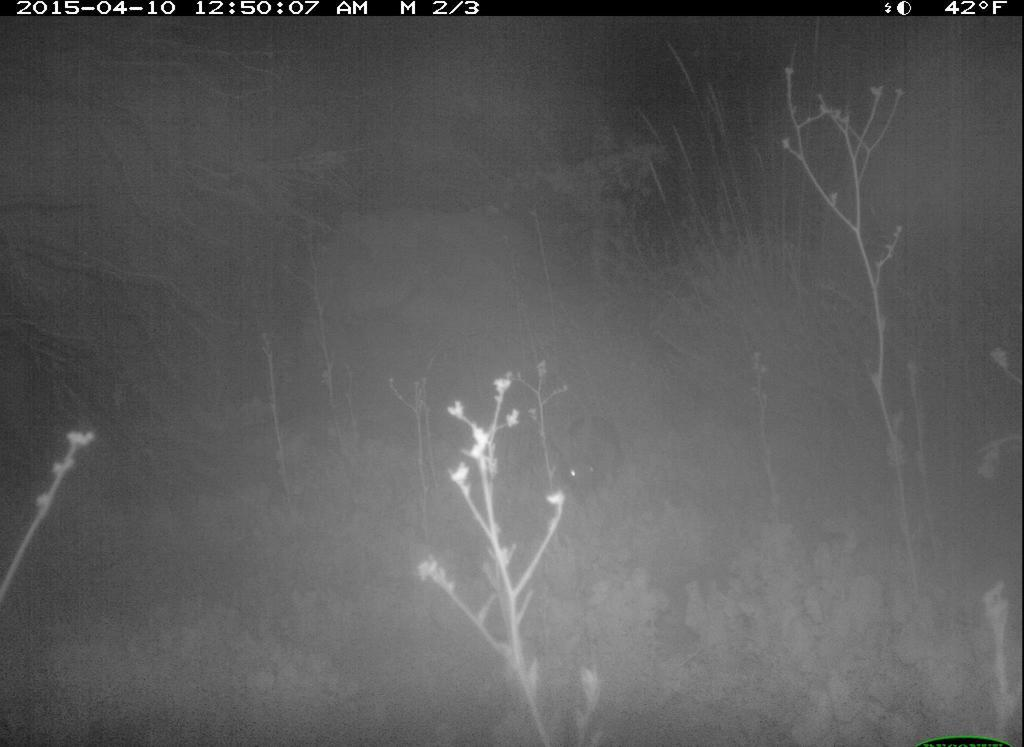rabbit: (551, 406, 632, 507)
